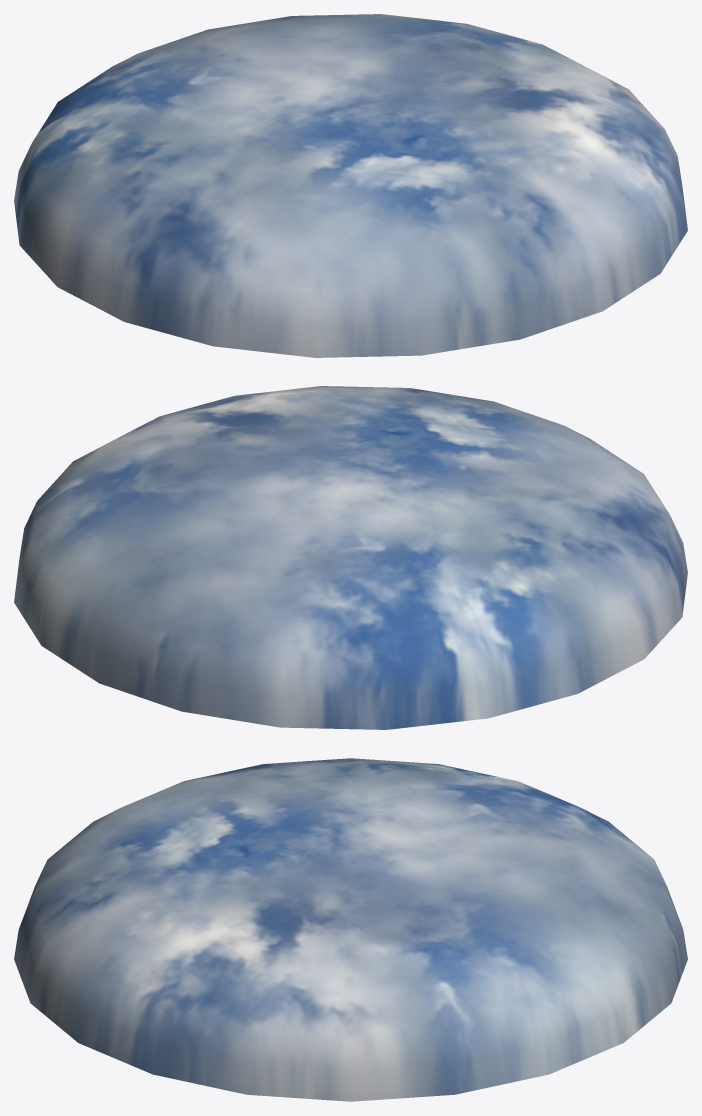
The model's file is skySphere.fbx.
3 renders of one model, top to bottom at view 1: azimuth 30°, elevation 25°; view 2: azimuth 150°, elevation 25°; view 3: azimuth 270°, elevation 25°, orthographic.
Parts seen in each view (by area): view 1: skySphere; view 2: skySphere; view 3: skySphere.
Part boxes in pixels (x1,y1,x2,y2): skySphere: (14,14,687,357); skySphere: (14,386,687,729); skySphere: (14,758,687,1101).
Size of the model in its own units: 10000 by 1909 by 10000.
